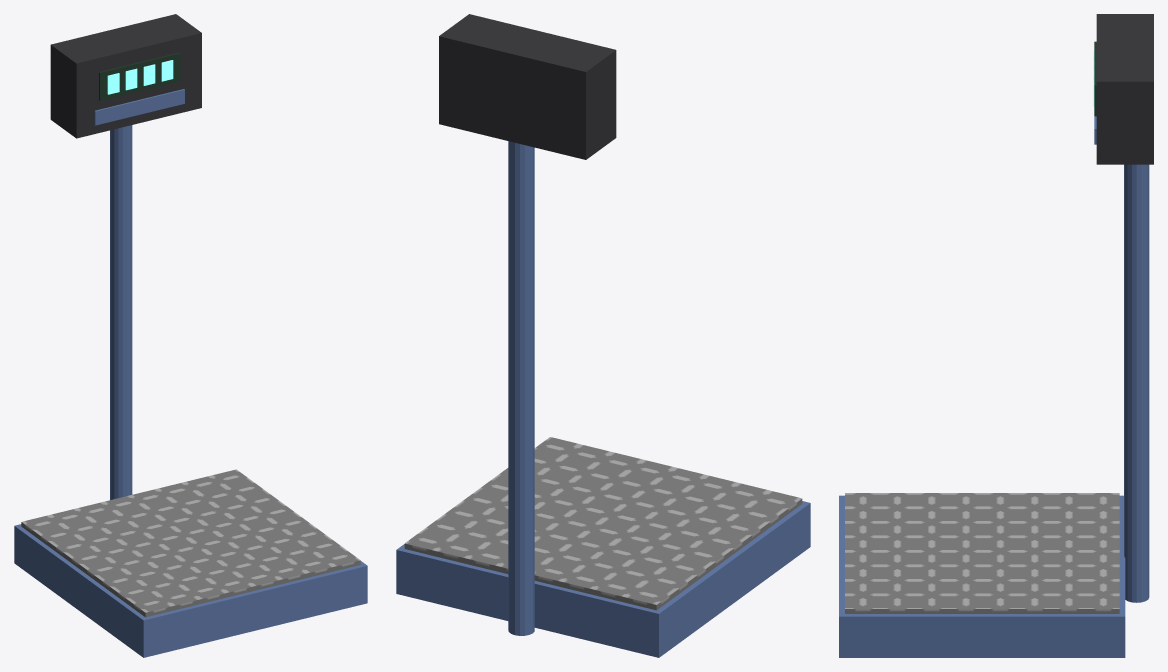
File: gas_scale.glb
The picture shows the model from 3 angles, left to right: view 1: azimuth 30°, elevation 25°; view 2: azimuth 150°, elevation 25°; view 3: azimuth 270°, elevation 25°; orthographic projection. The views are drawn at different scales.
Visible parts, largest first — view 1: platform, base, head, column, display, keys; view 2: platform, head, base, column; view 3: platform, base, column, head.
Boxes of the visible parts, x1,y1,x2,y2 form: platform: (21,469,360,617); base: (14,524,367,657); head: (50,14,201,138); column: (110,125,132,499); display: (99,52,180,100); keys: (94,89,184,125); platform: (404,437,802,610); head: (439,14,616,159); base: (396,501,810,657); column: (508,141,534,635); platform: (845,493,1119,613); base: (839,495,1125,657); column: (1124,164,1149,602); head: (1096,14,1153,164).
Size of the model in its own units: 0.5 by 1.06 by 0.55.
5 materials, 1 textured.
